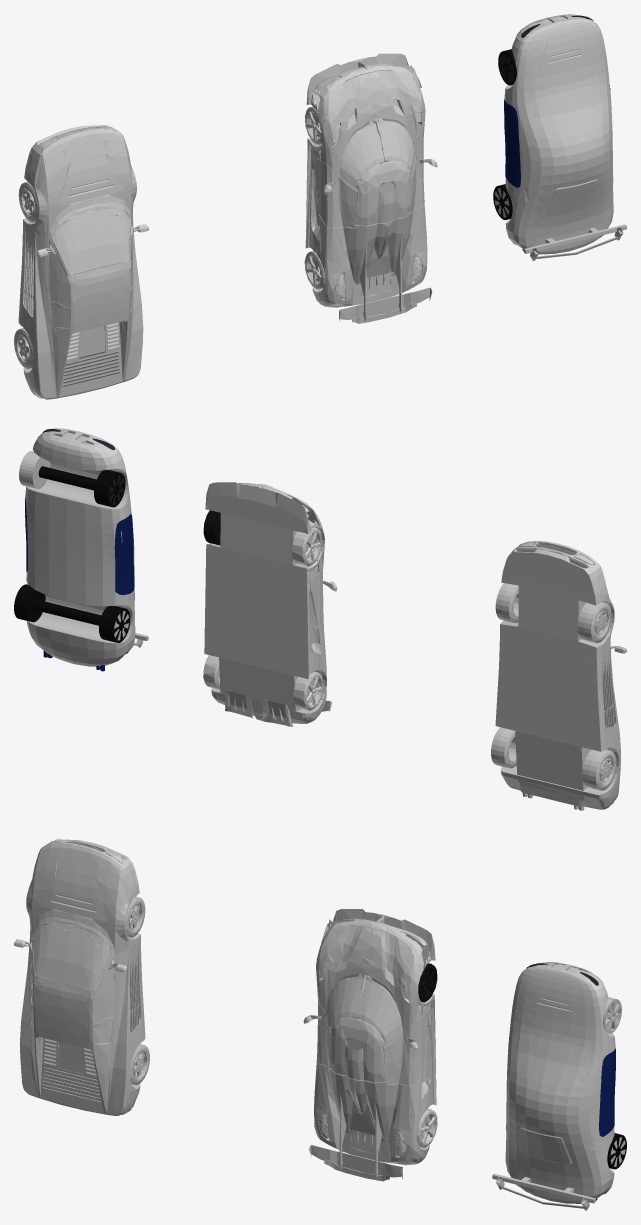
File: Cars_converted.obj
3 renders of one model, top to bottom at view 1: azimuth 30°, elevation 25°; view 2: azimuth 150°, elevation 25°; view 3: azimuth 330°, elevation 25°, orthographic.
Parts seen in each view (by area): view 1: Ferrari_Testarossa_Body, Koenigsegg_Body, Blue_Car_Bumper_Front, Blue_Car_Side_Panel, Ferrari_Testarossa_Wheel_FrontLeft, Ferrari_Testarossa_Wheel_RearLeft, Koenigsegg_Wheel_RearLeft, Blue_Car_Wheel_FrontLeft, Koenigsegg_Wheel_FrontLeft, Blue_Car_Wheel_RearLeft_002; view 2: Ferrari_Testarossa_Body, Koenigsegg_Body, Blue_Car_Bumper_Front, Blue_Car_Side_Panel, Ferrari_Testarossa_Wheel_RearLeft, Ferrari_Testarossa_Wheel_FrontLeft, Blue_Car_Wheel_RearLeft_002, Blue_Car_Wheel_FrontLeft, Koenigsegg_Wheel_RearLeft, Koenigsegg_Wheel_FrontLeft, Ferrari_Testarossa_Wheel_RearRight, Blue_Car_Wheel_FrontRight_002 (+5 smaller); view 3: Ferrari_Testarossa_Body, Koenigsegg_Body, Blue_Car_Bumper_Front, Blue_Car_Side_Panel, Ferrari_Testarossa_Wheel_FrontRight, Ferrari_Testarossa_Wheel_RearRight, Koenigsegg_Wheel_RearRight, Koenigsegg_Wheel_FrontRight, Blue_Car_Wheel_FrontRight_002, Blue_Car_Wheel_RearRight.
Part boxes in pixels (box(x1,y1,x2,y2)): Ferrari_Testarossa_Body: box(18, 125, 148, 399); Koenigsegg_Body: box(305, 53, 437, 323); Blue_Car_Bumper_Front: box(504, 14, 626, 260); Blue_Car_Side_Panel: box(504, 85, 610, 187); Ferrari_Testarossa_Wheel_FrontLeft: box(18, 181, 38, 222); Ferrari_Testarossa_Wheel_RearLeft: box(14, 328, 33, 368); Koenigsegg_Wheel_RearLeft: box(304, 251, 324, 289); Blue_Car_Wheel_FrontLeft: box(493, 184, 512, 219); Koenigsegg_Wheel_FrontLeft: box(305, 106, 323, 144); Blue_Car_Wheel_RearLeft_002: box(498, 49, 516, 85); Ferrari_Testarossa_Body: box(495, 541, 626, 810); Koenigsegg_Body: box(204, 482, 337, 726); Blue_Car_Bumper_Front: box(25, 428, 148, 666); Blue_Car_Side_Panel: box(25, 497, 134, 594); Ferrari_Testarossa_Wheel_RearLeft: box(582, 749, 616, 790); Ferrari_Testarossa_Wheel_FrontLeft: box(577, 602, 611, 643); Blue_Car_Wheel_RearLeft_002: box(94, 470, 125, 507); Blue_Car_Wheel_FrontLeft: box(99, 606, 130, 642); Koenigsegg_Wheel_RearLeft: box(293, 671, 323, 710); Koenigsegg_Wheel_FrontLeft: box(291, 527, 322, 565); Ferrari_Testarossa_Wheel_RearRight: box(491, 727, 516, 768); Blue_Car_Wheel_FrontRight_002: box(14, 584, 45, 622); Ferrari_Testarossa_Body: box(14, 839, 145, 1115); Koenigsegg_Body: box(303, 909, 436, 1181); Blue_Car_Bumper_Front: box(492, 962, 615, 1210); Blue_Car_Side_Panel: box(509, 1034, 615, 1136); Ferrari_Testarossa_Wheel_FrontRight: box(125, 896, 145, 937); Ferrari_Testarossa_Wheel_RearRight: box(130, 1044, 149, 1084); Koenigsegg_Wheel_RearRight: box(417, 1108, 437, 1147); Koenigsegg_Wheel_FrontRight: box(418, 963, 437, 1002); Blue_Car_Wheel_FrontRight_002: box(607, 1133, 626, 1169); Blue_Car_Wheel_RearRight: box(603, 997, 621, 1033).
Bounding box in the file's own units: 10.78 × 4.5 × 1.25.
